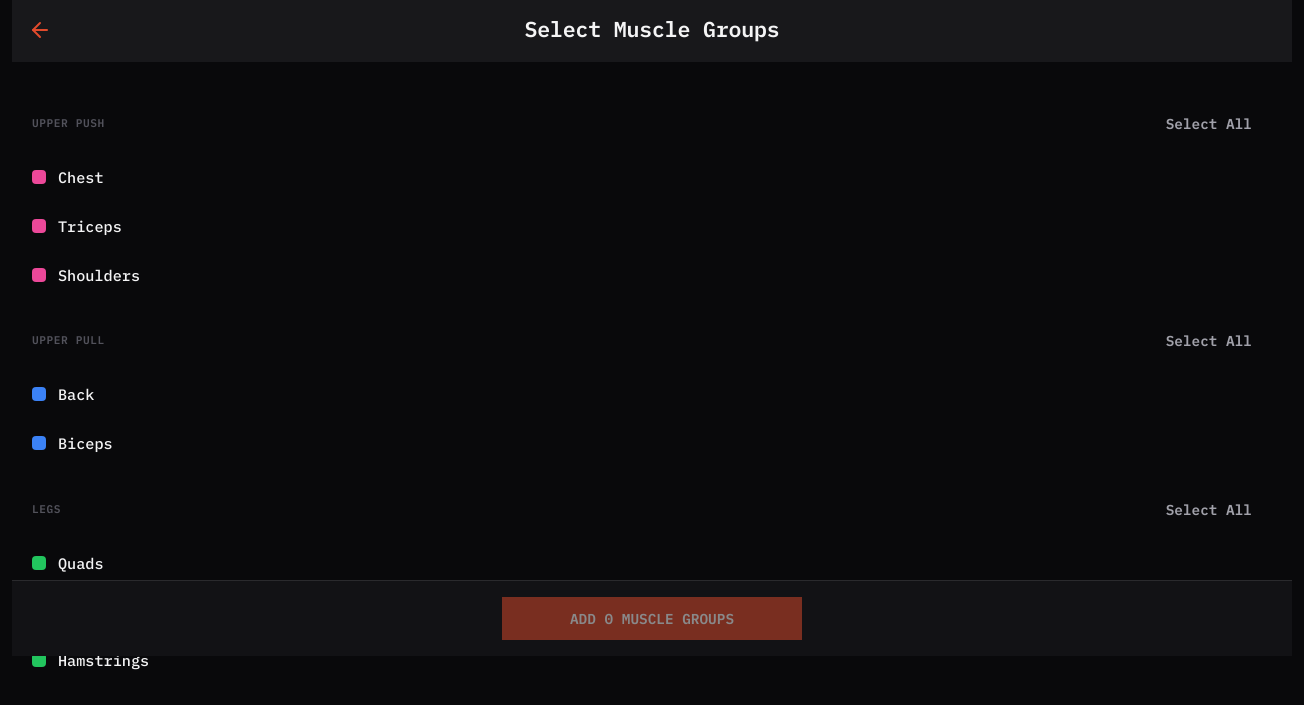
Test: MuscleGroupSelectorPage › selects and deselects all groups in a category
Step 1. Click the button "Select All" in the row of "Upper Push" → [1209, 123], box [1146,102,1272,145]
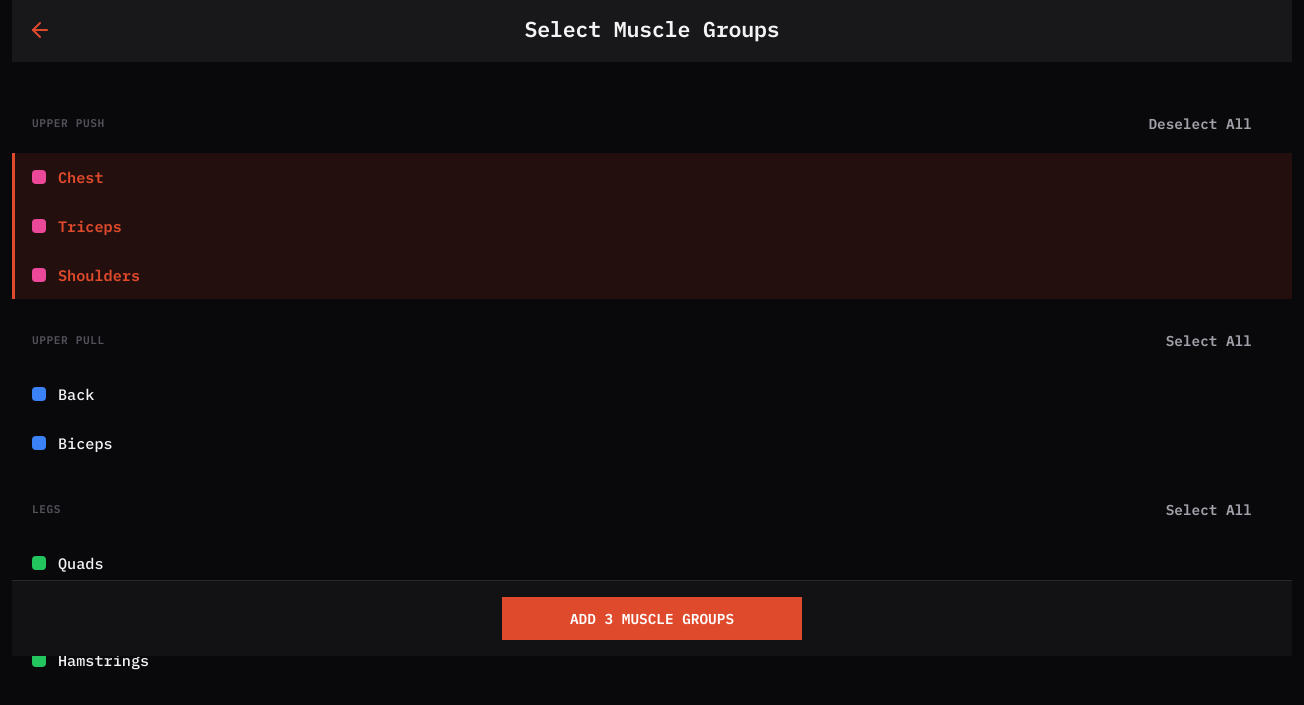
Expected: the button "Deselect All" is shown
Expected: the button "Add 3 Muscle Groups" is shown, [502,597,802,640]
Step 2. Click the button "Deselect All" → [1200, 123], box [1128,102,1272,145]
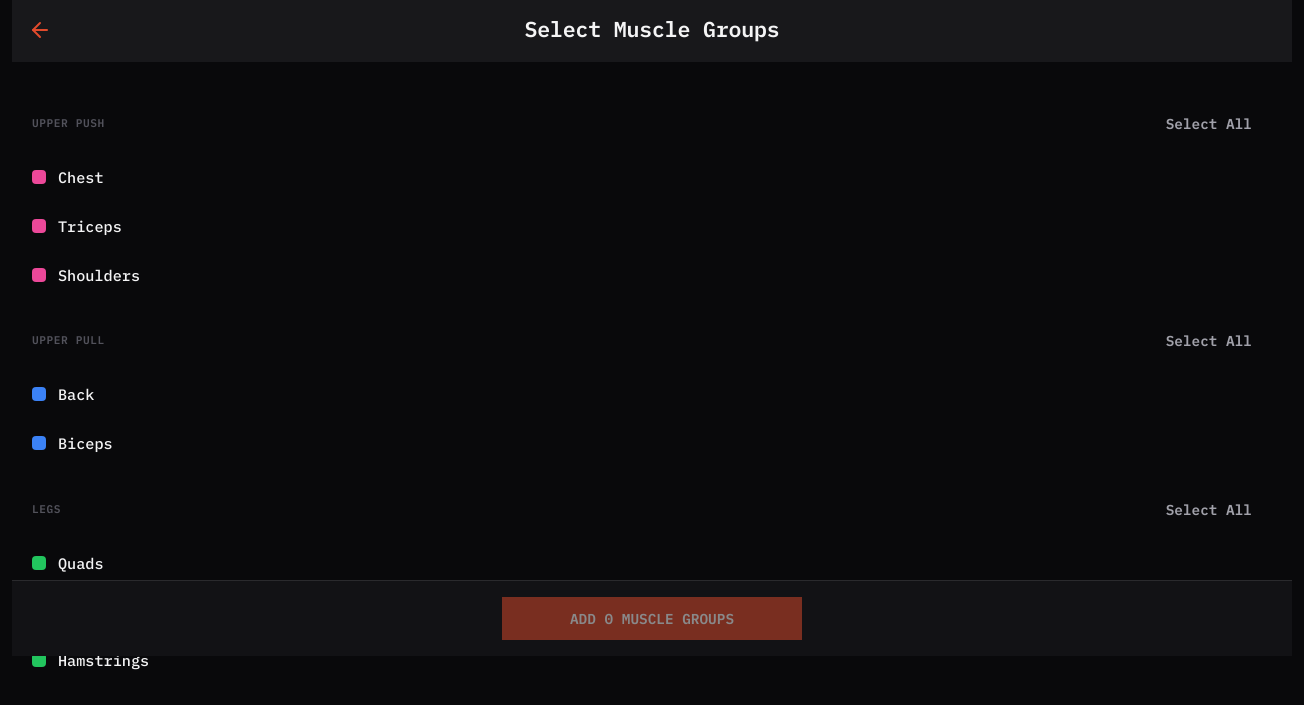
Expected: the button "Select All" in the row of "Upper Push" is shown, [1146,102,1272,145]
Expected: the button "Add 0 Muscle Groups" is disabled, [502,597,802,640]
